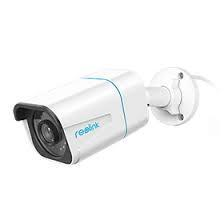Security camera: (12, 65, 202, 165)
